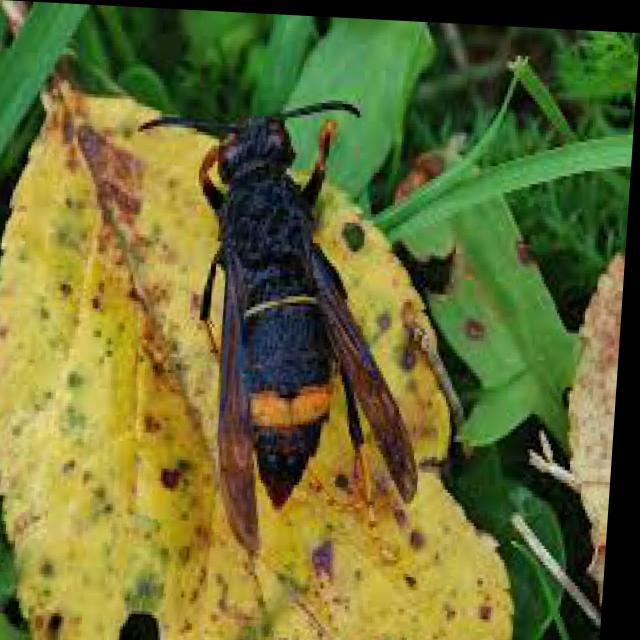Vespa Velutina: (117, 75, 453, 564)
